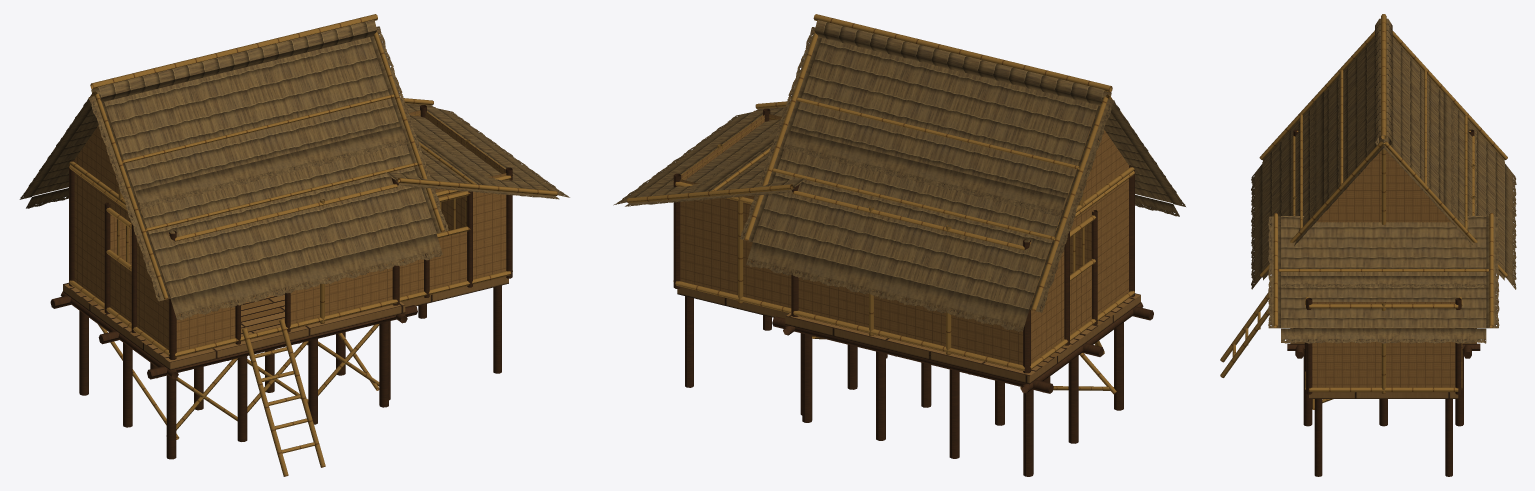
The picture shows the model from 3 angles, left to right: view 1: azimuth 30°, elevation 25°; view 2: azimuth 150°, elevation 25°; view 3: azimuth 270°, elevation 25°; orthographic projection. The views are drawn at different scales.
Parts seen in each view (by area): view 1: hut_mangyan_0; view 2: hut_mangyan_0; view 3: hut_mangyan_0.
Boxes of the visible parts, box(x1,y1,x2,y2) form: hut_mangyan_0: box(19, 14, 569, 476); hut_mangyan_0: box(613, 14, 1185, 476); hut_mangyan_0: box(1220, 14, 1516, 476).
Size of the model in its own units: 7.02 by 5.41 by 4.83.
6 materials, 6 textured.
